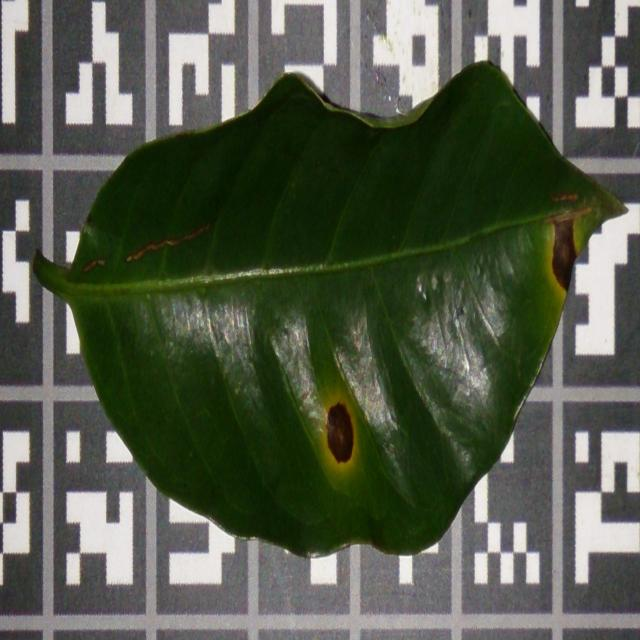Enfermedad-Mancha-de-hierro: (30, 63, 627, 560)
